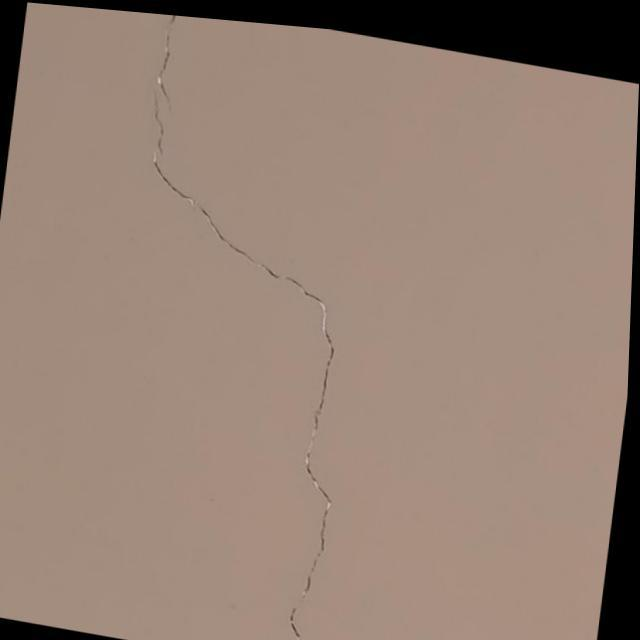Crack: (147, 37, 334, 629)
